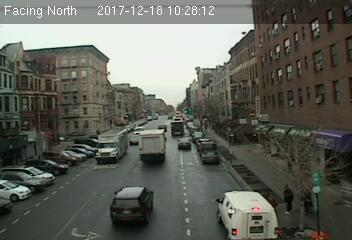car: (111, 186, 153, 220), (201, 150, 219, 164), (177, 138, 191, 149)
truck: (216, 189, 279, 238), (97, 129, 129, 163), (138, 129, 166, 165)
ups: (171, 121, 185, 137)
